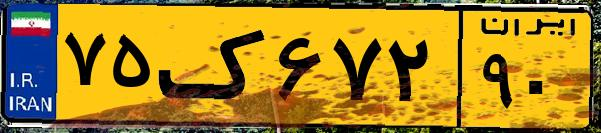0: (525, 38, 570, 115)
2: (385, 28, 445, 110)
5: (110, 28, 158, 98)
6: (270, 28, 330, 110)
7: (330, 28, 385, 110), (57, 26, 110, 100)
9: (475, 38, 525, 113)
ک: (158, 12, 270, 120)
